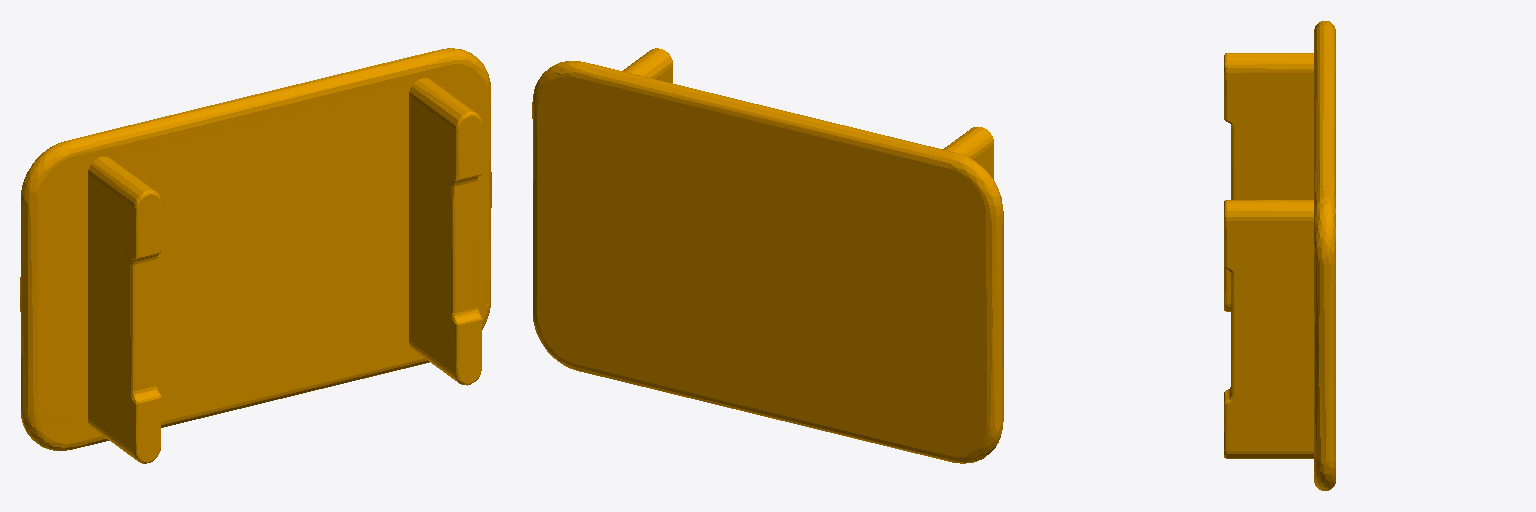
The robot description file, URDF, robot "doma":
<?xml version="1.0"?>
<robot name="doma">
  <link name="doma">
    <visual>
      <origin xyz="0.0 0.0 0.0"/>
      <geometry>
        <mesh filename="doma.obj" scale="1.0 1.0 1.0"/>
      </geometry>
    </visual>
    <collision>
      <origin xyz="0.0 0.0 0.0"/>
      <geometry>
        <mesh filename="doma.obj" scale="1.0 1.0 1.0"/>
      </geometry>
    </collision>
    <inertial>
      <!-- Mass value from the *empty* spam can. Full spam can is 368g -->
      <mass value="0.026"/> 
      <inertia ixx="0.0001" ixy="0.0" ixz="0.0" iyy="0.0001" iyz="0.0" izz="0.0001"/>
    </inertial>
  </link>
</robot>

--- Render facts (derived) ---
Views: 3 orthographic renders of the robot side by side, from view 1: azimuth 30°, elevation 25°; view 2: azimuth 150°, elevation 25°; view 3: azimuth 270°, elevation 25°.
Robot: doma — 1 links, 0 joints (none); root link doma; default pose: all joints at 0.
Visible links, largest first — view 1: doma; view 2: doma; view 3: doma.
Boxes of the visible links, left/top/right/bottom form: doma: left=20, top=48, right=491, bottom=463; doma: left=532, top=48, right=1003, bottom=463; doma: left=1224, top=21, right=1335, bottom=490.
Bounding box of the posed robot: 0.3501 × 0.077 × 0.2201 m (x, y, z).
1 mesh visuals loaded from 1 distinct referenced files (1 OBJ).